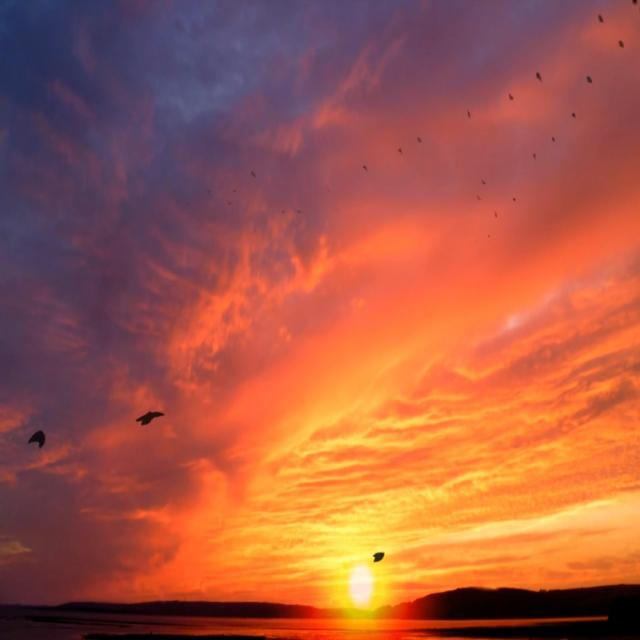bird: (133, 402, 167, 432), (25, 424, 52, 459), (371, 542, 388, 569), (534, 70, 543, 85), (595, 12, 605, 25), (506, 90, 516, 102), (617, 35, 625, 50), (414, 133, 422, 146), (493, 208, 499, 224), (466, 108, 472, 122), (361, 164, 368, 175), (481, 175, 488, 186), (585, 75, 593, 84), (476, 191, 482, 202), (397, 145, 402, 158), (629, 0, 638, 7), (570, 110, 576, 120), (550, 134, 556, 144), (250, 170, 256, 178), (296, 206, 301, 215), (226, 198, 233, 204), (533, 151, 537, 161), (512, 194, 516, 203), (230, 187, 237, 192), (280, 208, 285, 215)
